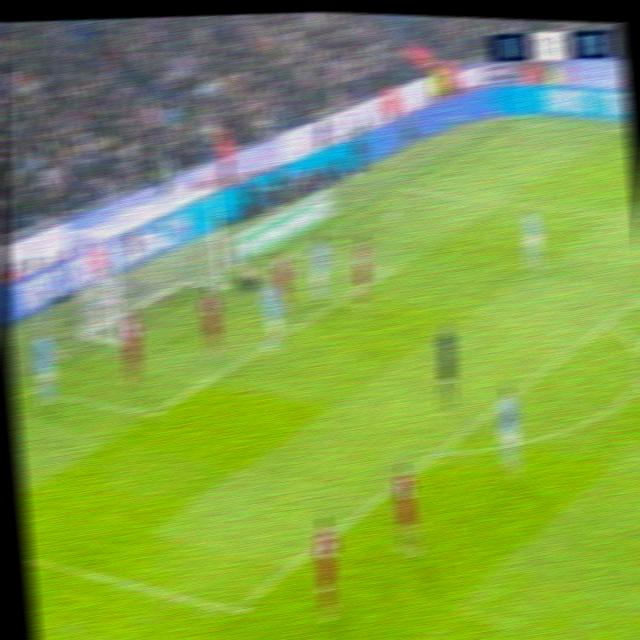bigarea_bottom_inner: (219, 591, 252, 629)
bigarea_top_outter: (396, 176, 419, 198)
bottom_arc_area_intersection: (425, 438, 452, 464)
corner: (515, 112, 543, 131)
smallarea_bottom_inner: (135, 396, 165, 430)
smallarea_top_inner: (377, 257, 403, 282)
smallarea_top_outter: (278, 241, 299, 262)
top_arc_area_intersection: (598, 308, 624, 332)
